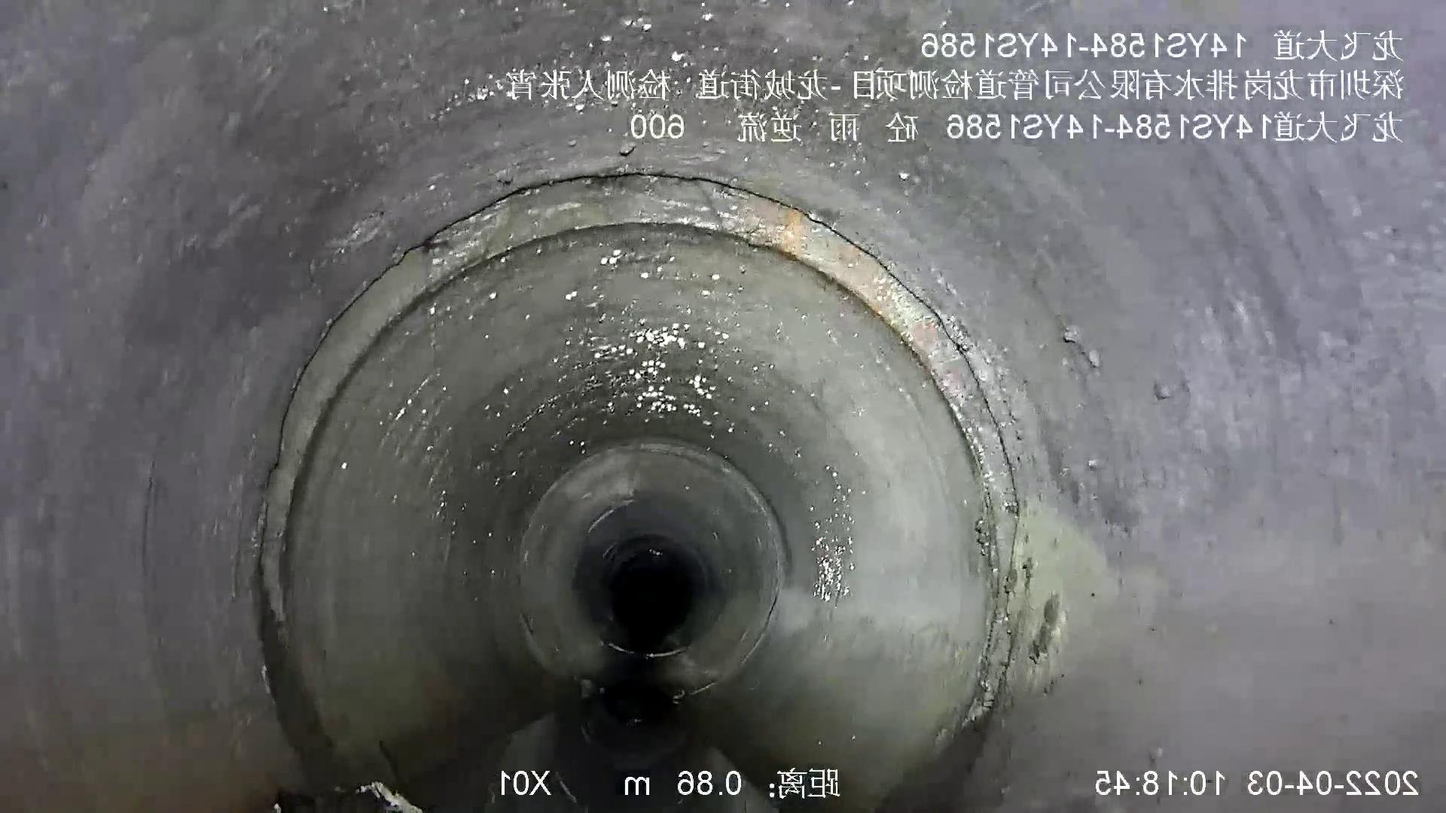CKTJ: (259, 169, 1021, 790)
